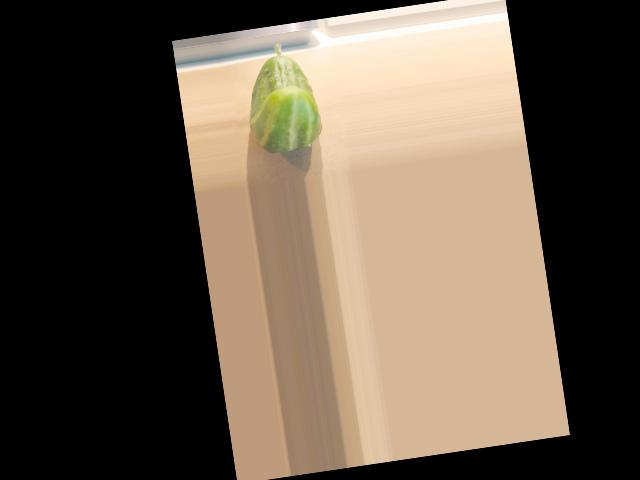cucumber: (239, 38, 325, 156)
